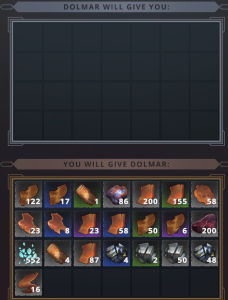durable hide: (45, 181, 72, 208), (132, 211, 159, 238), (161, 211, 188, 238), (15, 180, 41, 206)
ethereal dust: (15, 239, 43, 267)
flexible Hide: (14, 269, 42, 297)
iron ore: (102, 181, 129, 208)
oak log: (73, 181, 101, 209), (44, 239, 72, 267)
silver ore: (162, 239, 190, 267), (132, 240, 160, 268)
soft hide: (191, 181, 218, 208)
strong hide: (102, 209, 131, 238), (131, 181, 159, 209), (160, 181, 187, 208), (74, 210, 101, 237), (74, 240, 100, 266)
tin ore: (103, 240, 130, 267), (191, 239, 218, 266)
tough hide: (44, 210, 72, 238), (14, 209, 41, 236)
